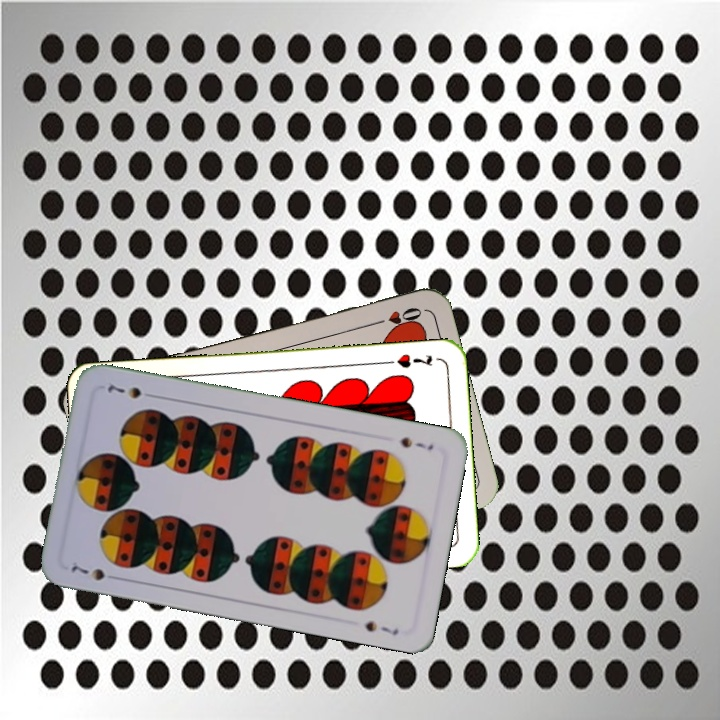H7: (381, 349, 435, 371)
HO: (367, 303, 425, 331)
S7: (67, 560, 123, 584), (396, 433, 436, 453)
